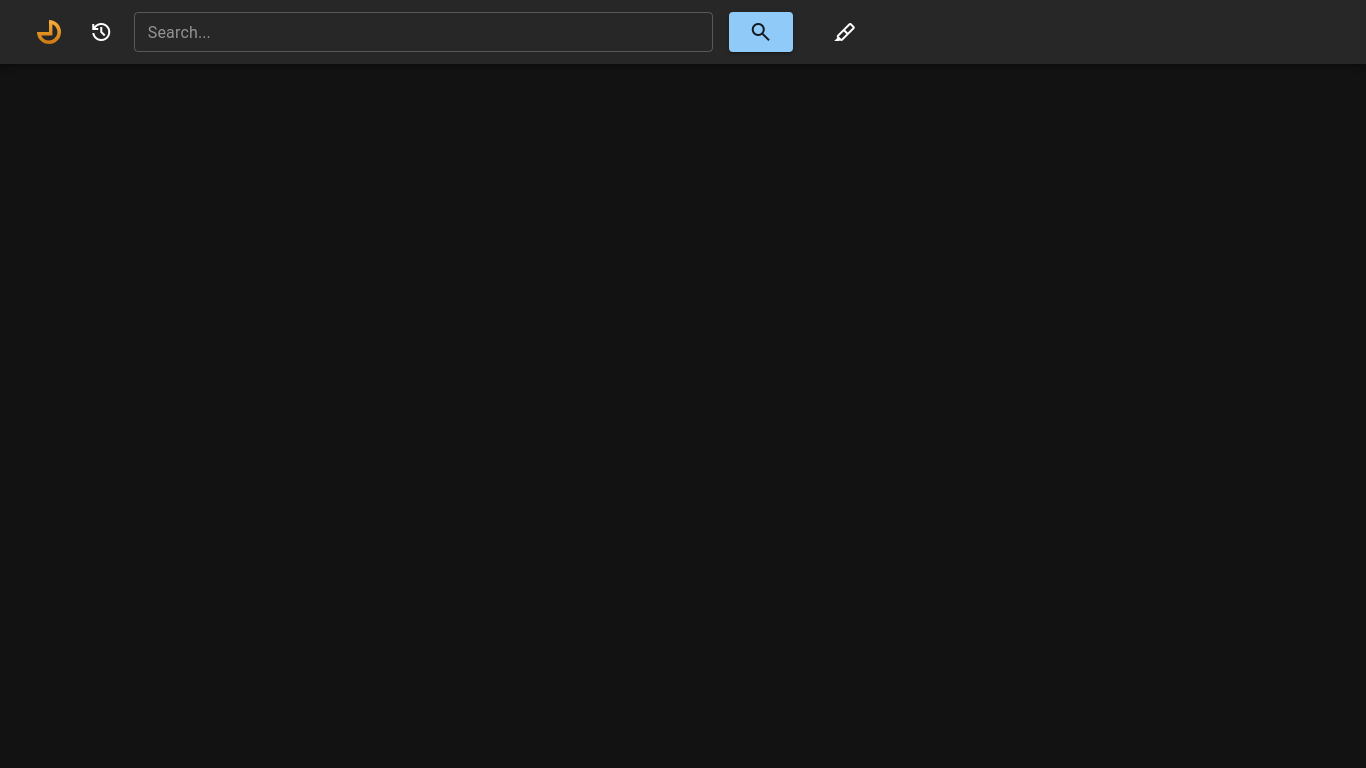
Search History Feature › When the user execute some queries › should be able to delete all entries
Replace the text in the element with test id "search-text-field" with "quack": (424, 32) [134, 12, 713, 52]
Then press Enter
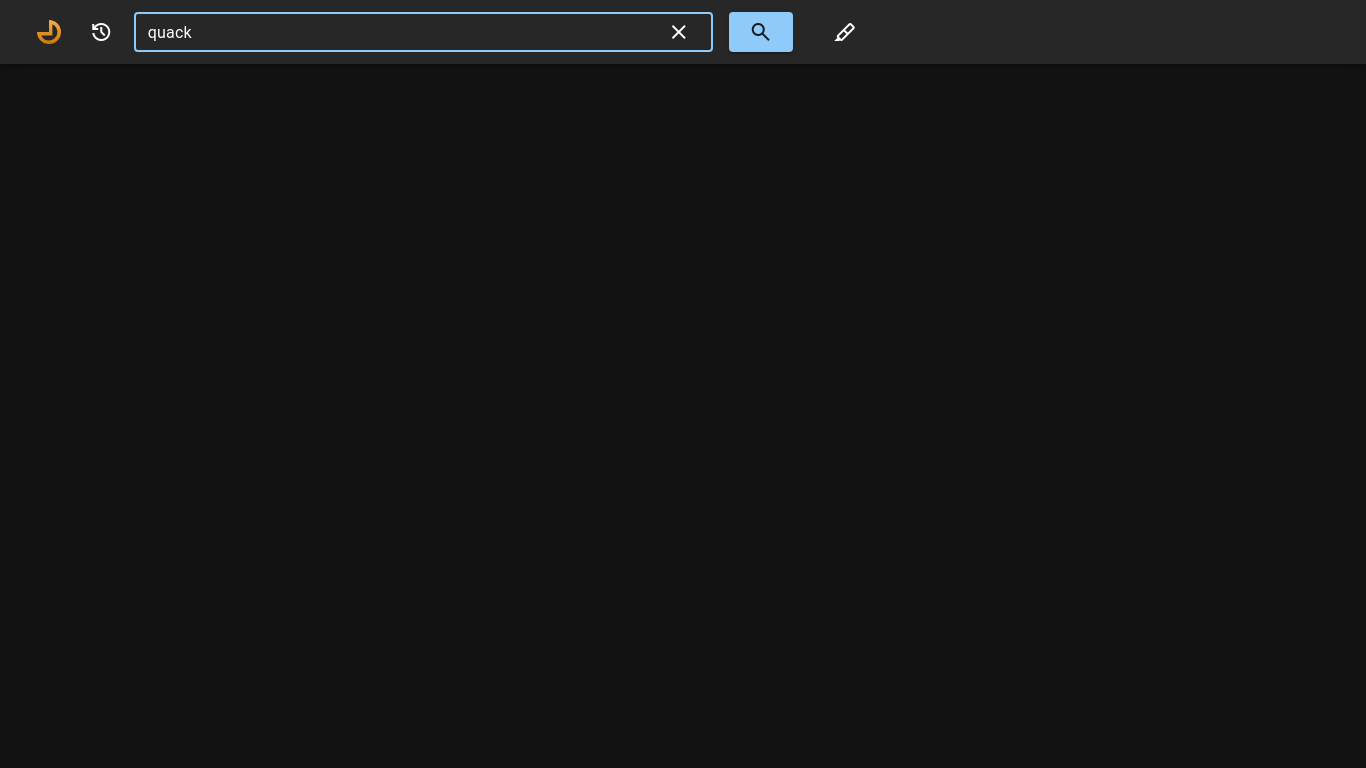
Replace the text in the element with test id "search-text-field" with "quack 2": (424, 32) [134, 12, 713, 52]
Then press Enter
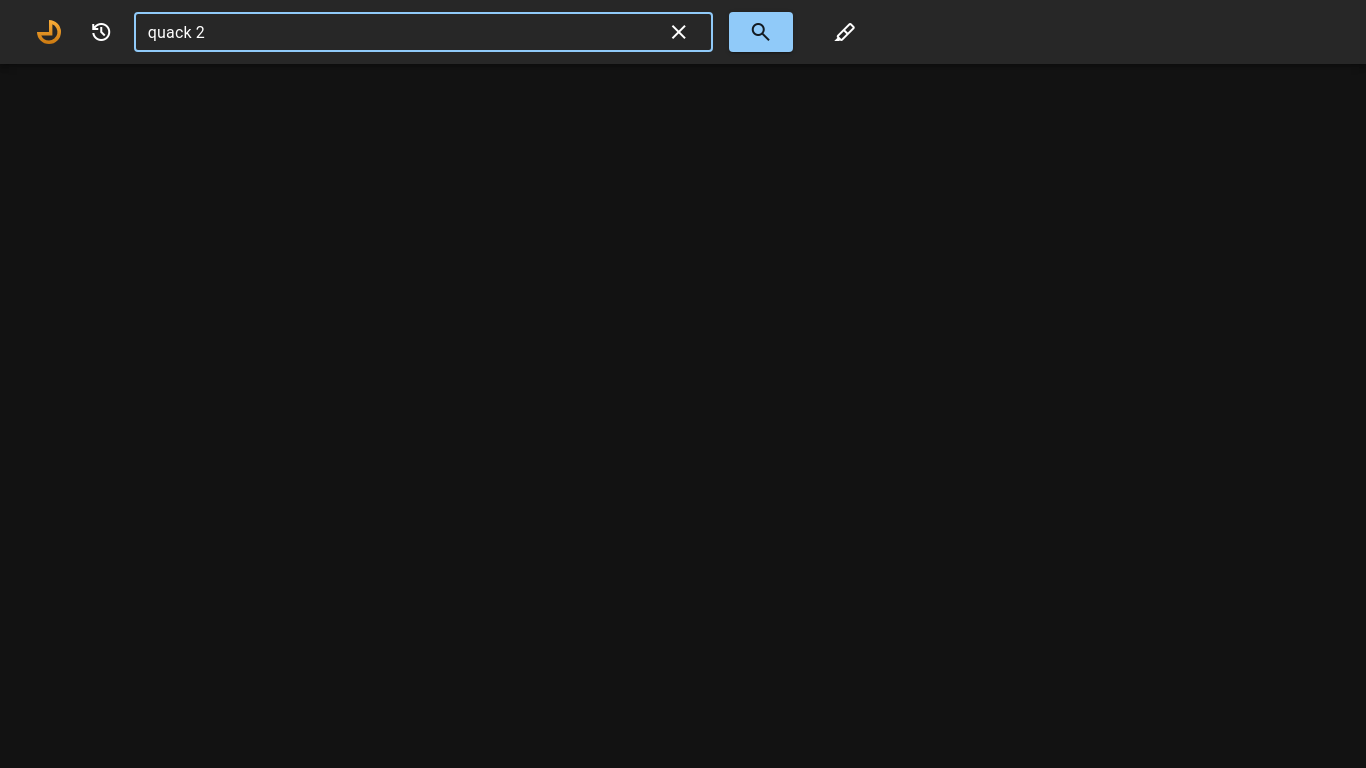
Replace the text in the element with test id "search-text-field" with "quack 3": (424, 32) [134, 12, 713, 52]
Then press Enter
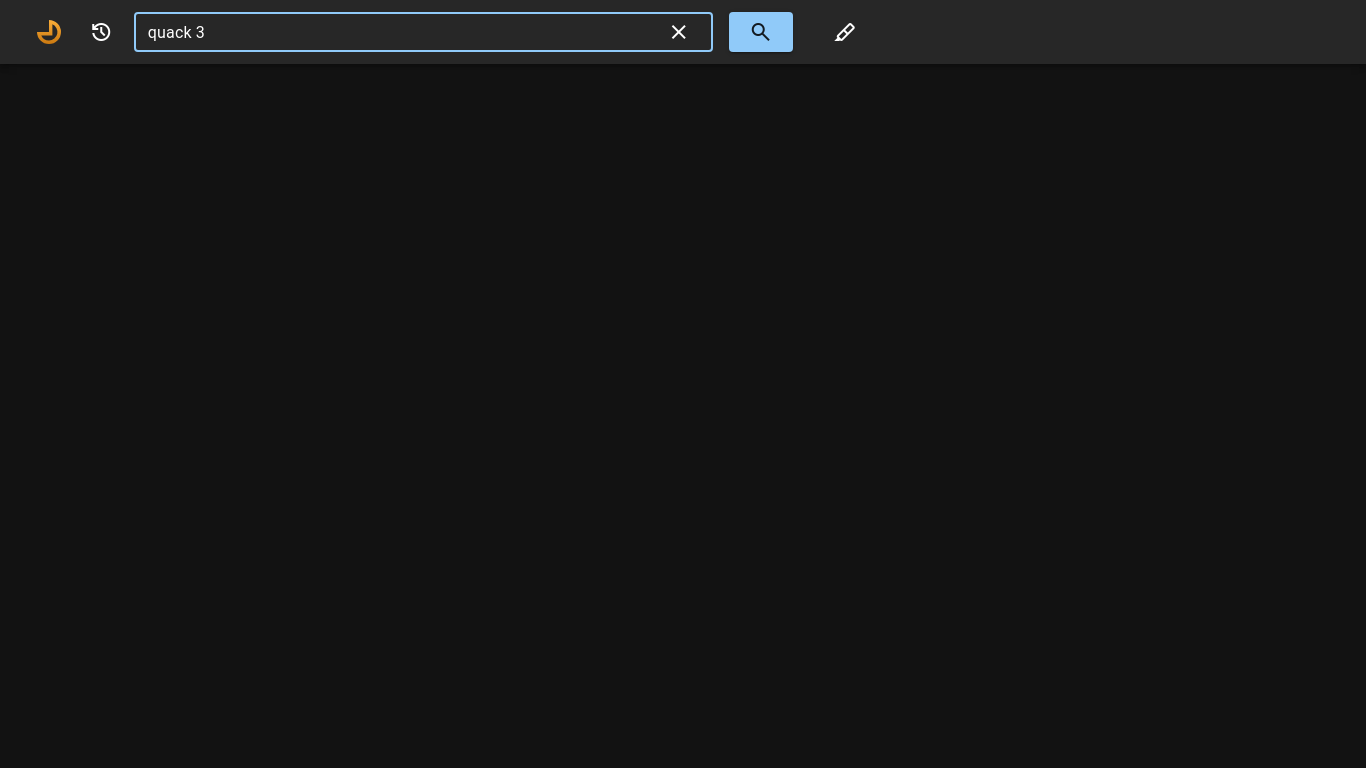
Click the button with test id "history-button": (101, 32) [81, 12, 121, 52]
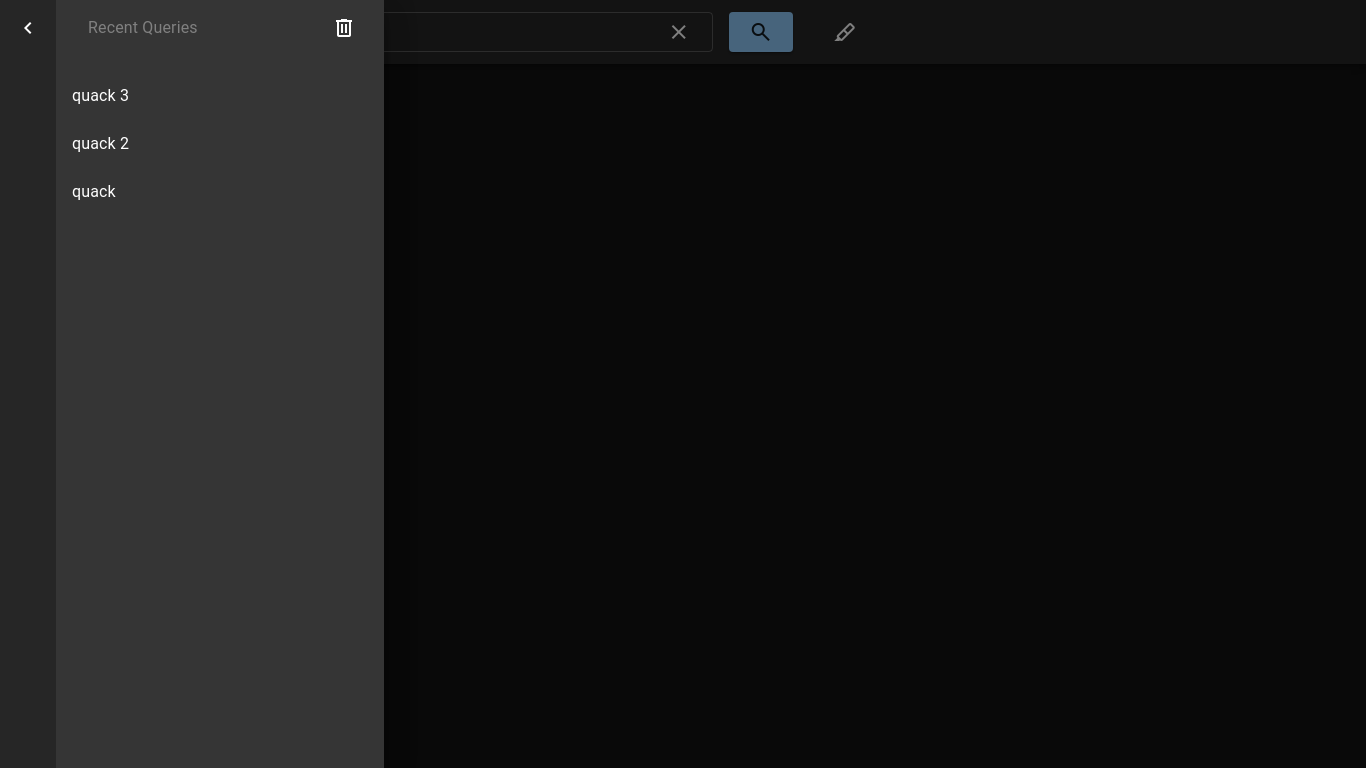
Click the button with test id "history-drawer-delete-button": (344, 28) [324, 8, 364, 48]
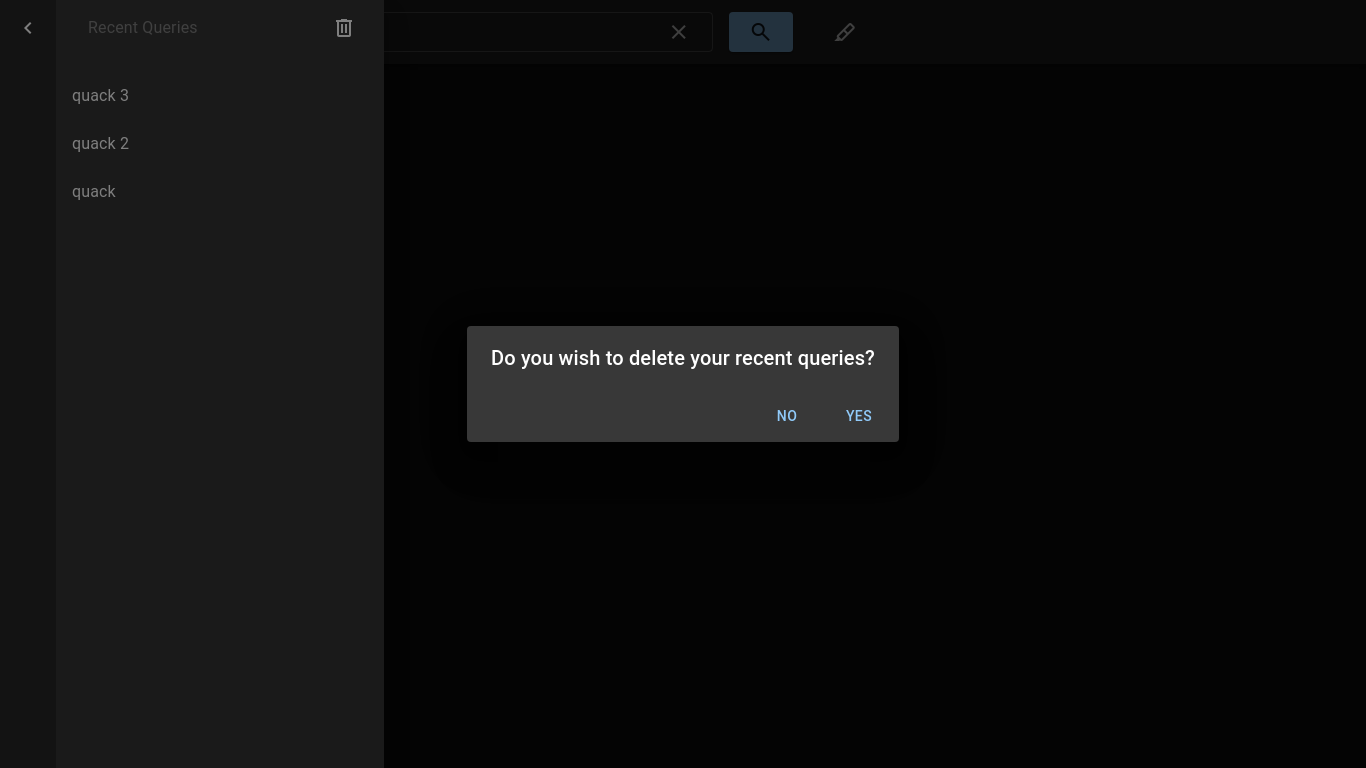
Click the button with test id "dialog-confirm-button": (859, 417) [827, 398, 891, 435]
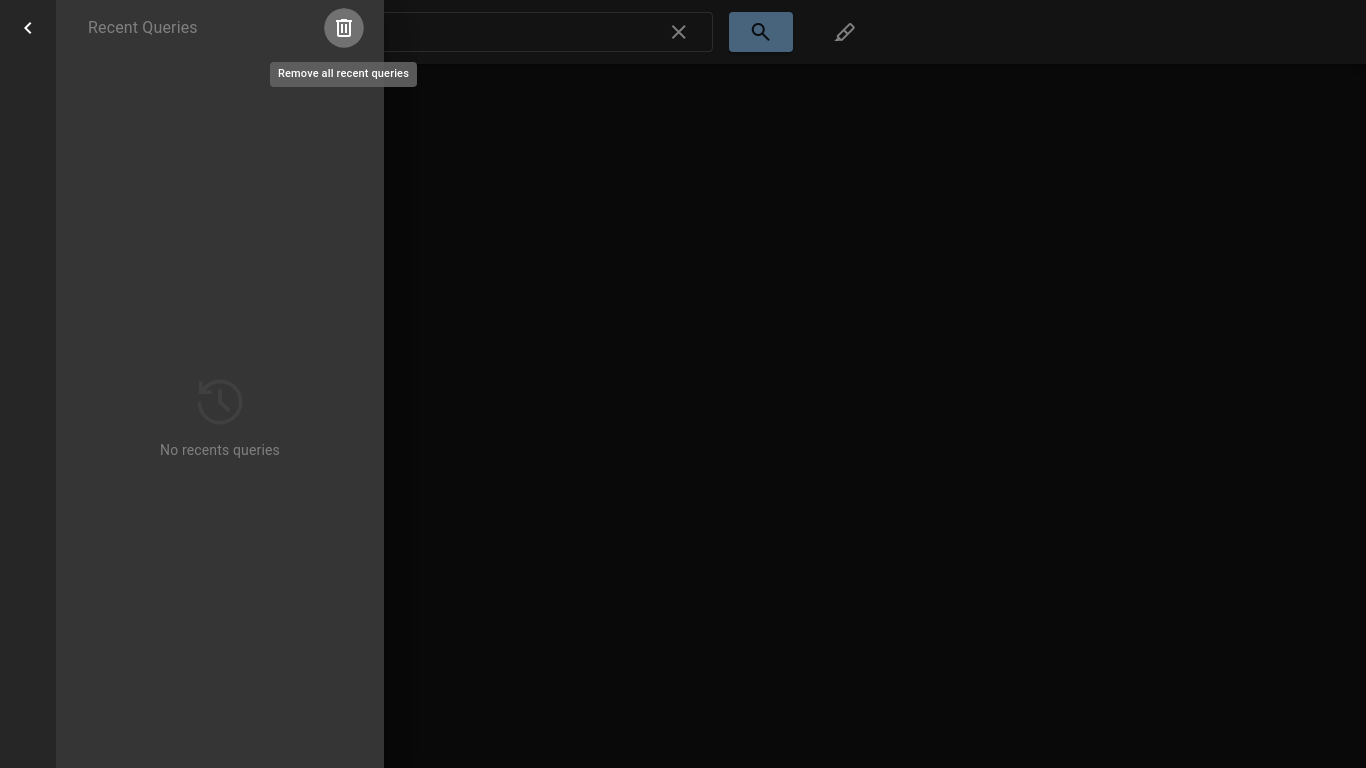
Now no list items with test id "history-item" are shown
